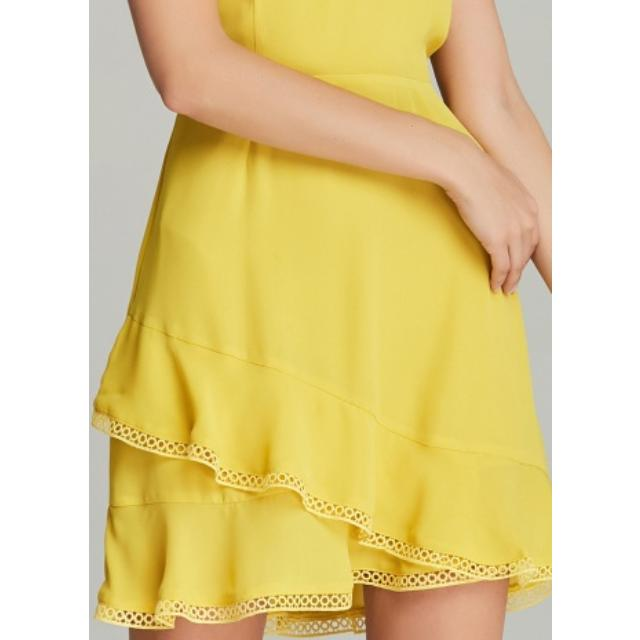polyester: (89, 0, 552, 640)
